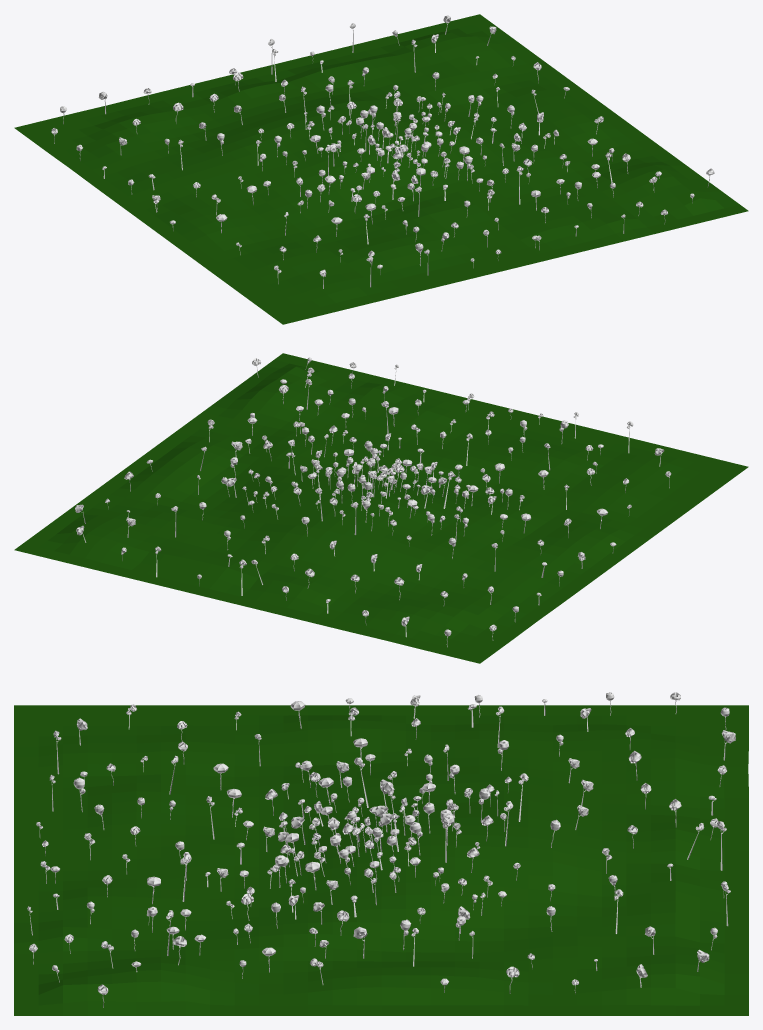
The model's file is ForestHuge1.fbx.
3 views of the same model, one above another, from view 1: azimuth 30°, elevation 25°; view 2: azimuth 150°, elevation 25°; view 3: azimuth 270°, elevation 25° (orthographic). The views are drawn at different scales.
Visible parts, largest first — view 1: Plane001; view 2: Plane001; view 3: Plane001.
Boxes of the visible parts, x1,y1,x2,y2 form: Plane001: (14,14,748,324); Plane001: (14,353,748,663); Plane001: (14,705,748,1015).
Size of the model in its own units: 4000 by 425 by 4000.
